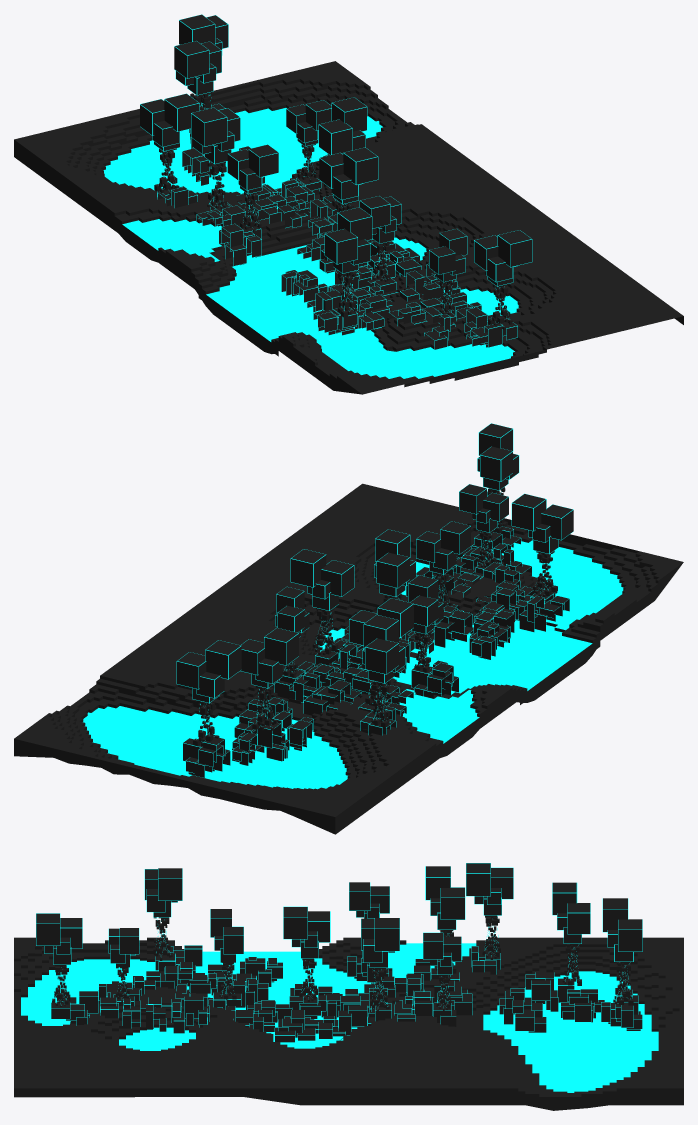
Rendered from EL Decor.fbx.
3 views of the same model, one above another, from view 1: azimuth 30°, elevation 25°; view 2: azimuth 150°, elevation 25°; view 3: azimuth 270°, elevation 25° (orthographic). The views are drawn at different scales.
Visible parts, largest first — view 1: Plane; view 2: Plane; view 3: Plane.
Boxes of the visible parts, x1,y1,x2,y2 form: Plane: (14,14,683,394); Plane: (14,423,683,834); Plane: (14,863,683,1110).
Bounding box in the file's own units: 38848 × 16018 × 72942.
